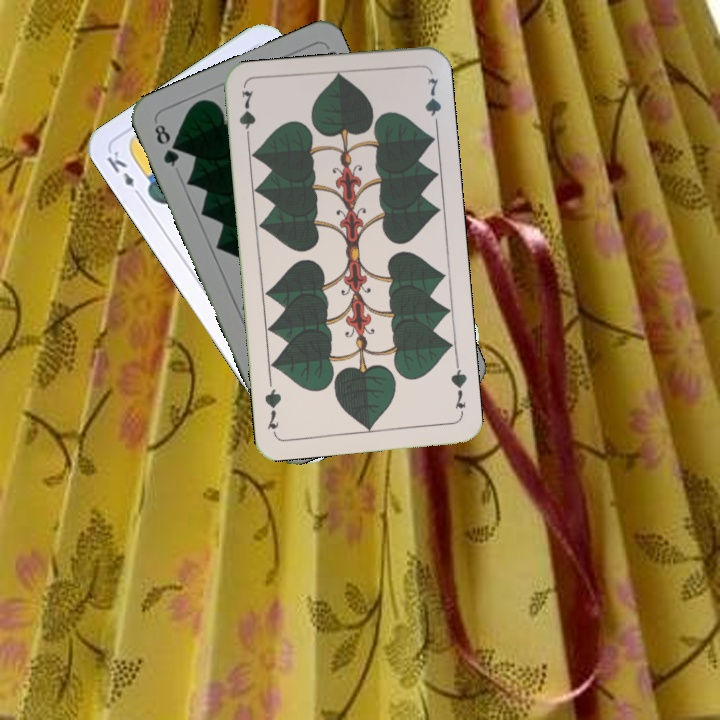EK: (102, 146, 145, 201)
G7: (235, 86, 258, 146), (447, 359, 469, 418)
G8: (150, 120, 182, 170)
